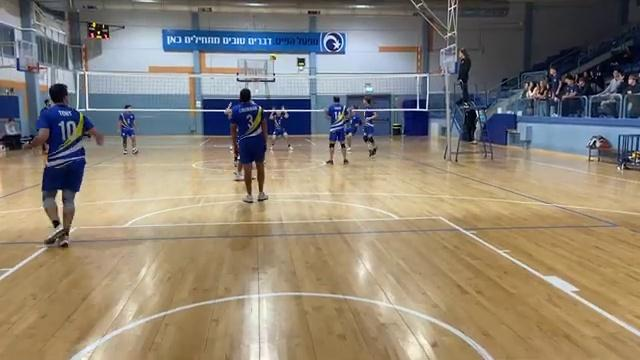ball: (269, 54, 278, 64)
